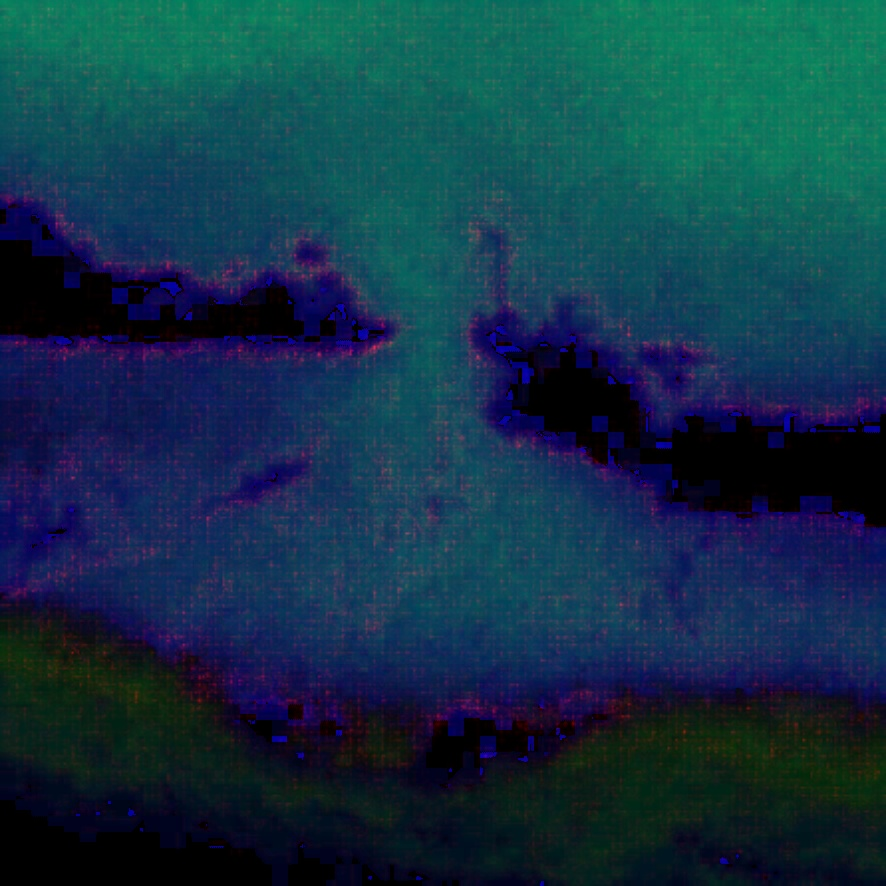rip_current: (209, 85, 601, 648)
